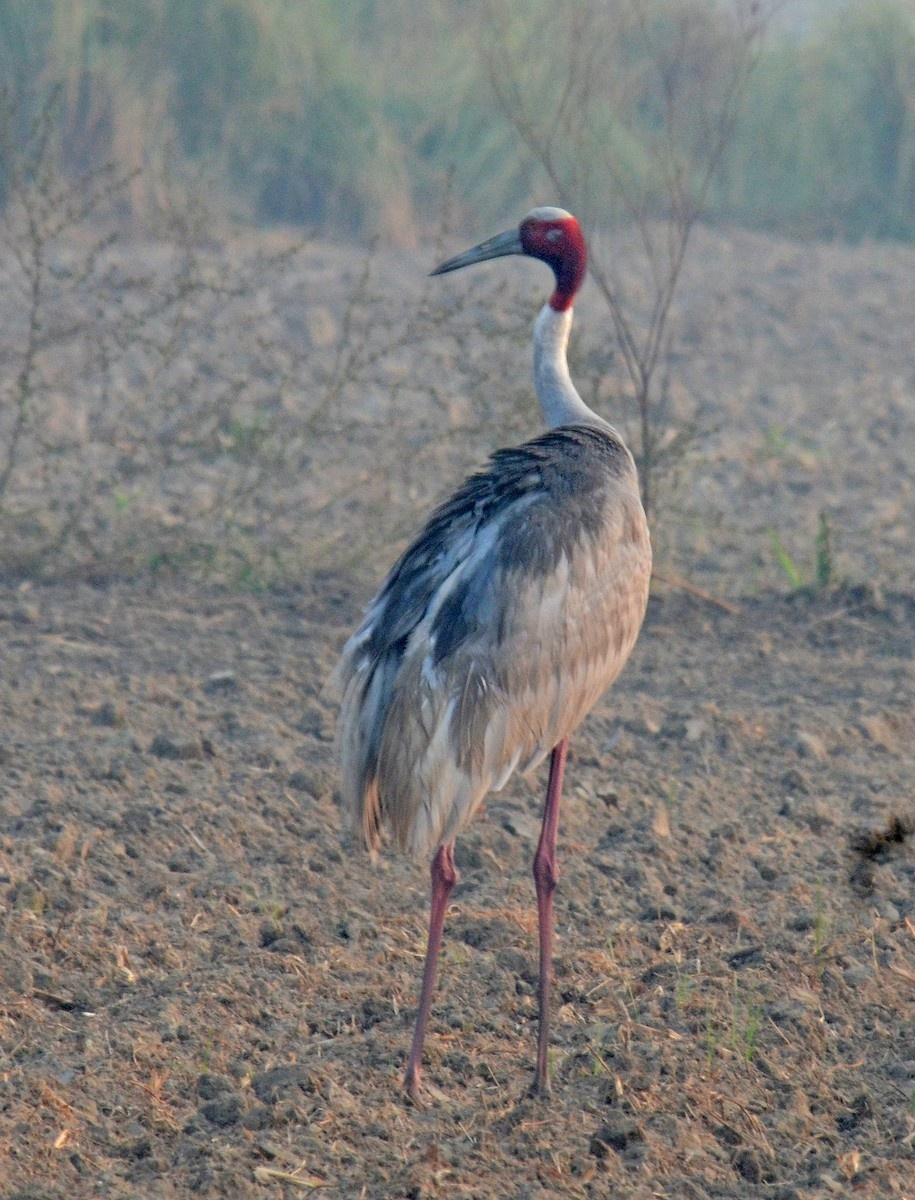crane: (345, 197, 659, 1104)
